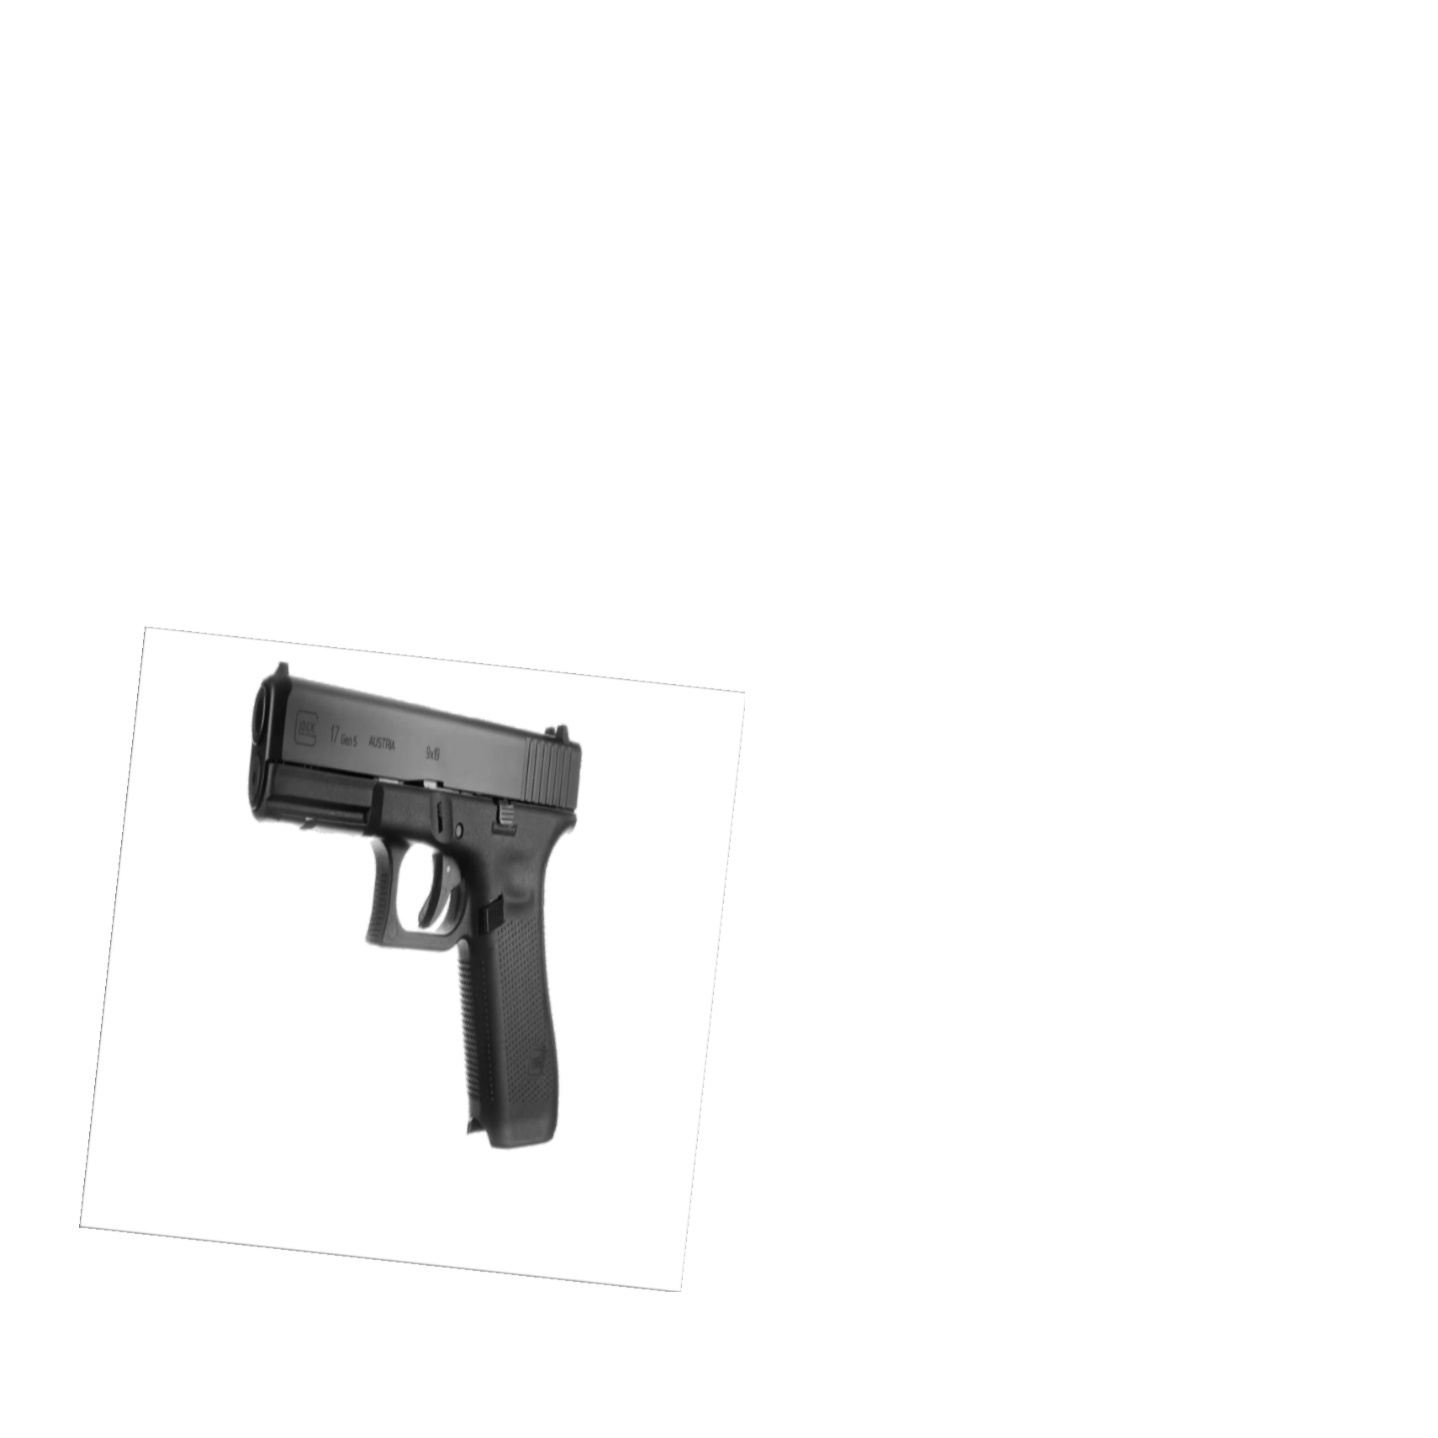gun: (248, 658, 579, 1151)
